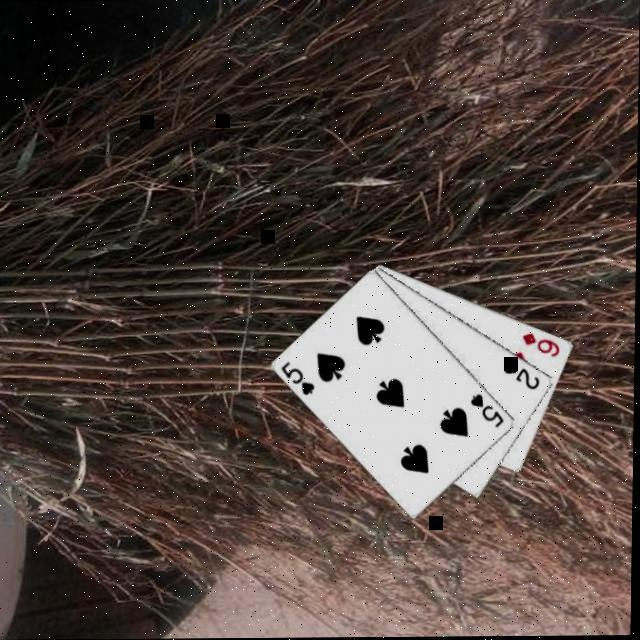2S: (501, 360, 543, 394)
5S: (278, 360, 318, 400), (468, 392, 507, 432)
6D: (519, 332, 563, 362)
